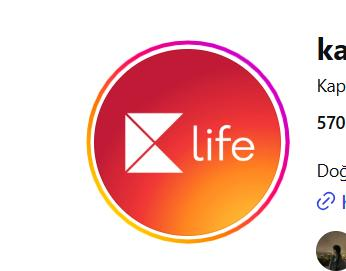Kapital Bank: (123, 109, 186, 174)
